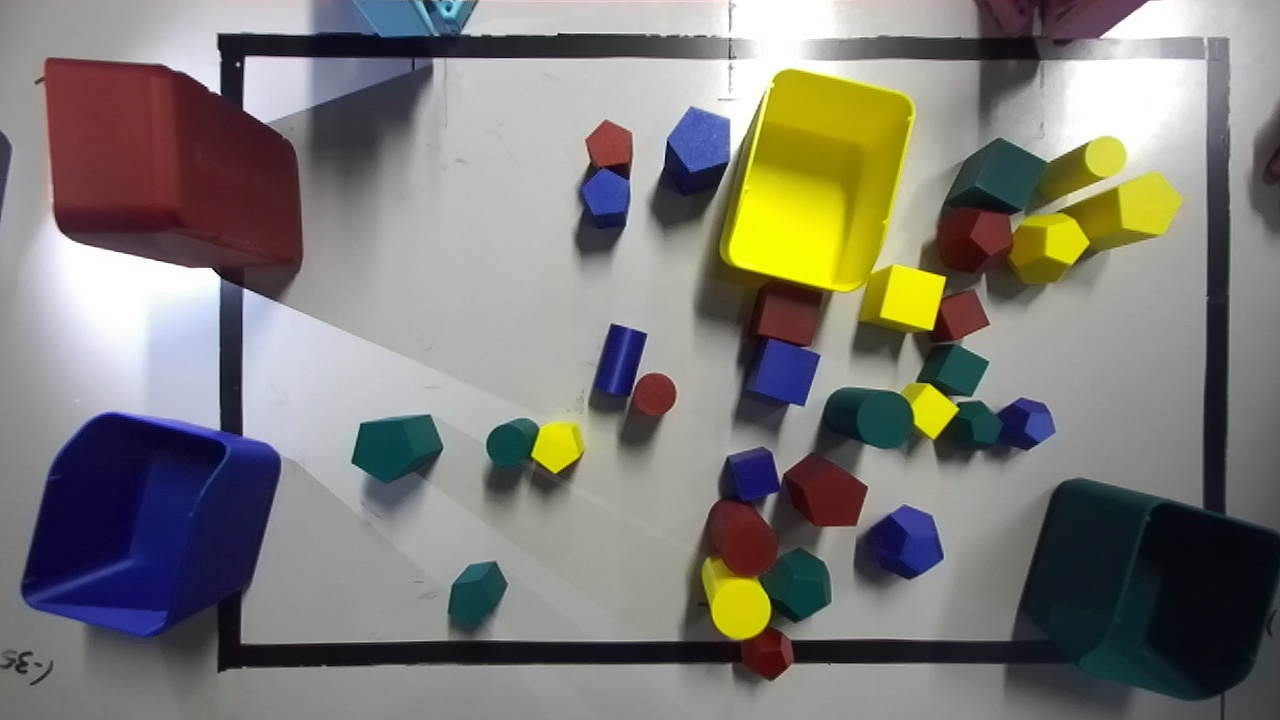bin: (44, 58, 302, 297), (21, 412, 280, 635), (1022, 480, 1279, 699), (719, 69, 914, 291)
cube: (944, 138, 1046, 213), (858, 264, 944, 331), (743, 339, 820, 405), (748, 280, 823, 345), (917, 343, 988, 395), (719, 447, 780, 501), (930, 289, 989, 343), (900, 383, 957, 438)
cylinder: (1031, 136, 1126, 207), (702, 557, 770, 639), (822, 387, 912, 448), (707, 499, 777, 576), (593, 323, 646, 396), (486, 418, 538, 466), (632, 373, 675, 415)
dodecahedron: (865, 505, 943, 578), (1008, 213, 1088, 283), (759, 548, 831, 620), (937, 207, 1012, 273), (998, 397, 1055, 449), (740, 626, 793, 679), (947, 401, 1002, 448)
hexagonal: (1062, 171, 1180, 250), (783, 453, 867, 526), (352, 414, 442, 482), (664, 107, 729, 194), (448, 561, 506, 628), (580, 169, 629, 228), (585, 120, 632, 179), (531, 422, 583, 473)
